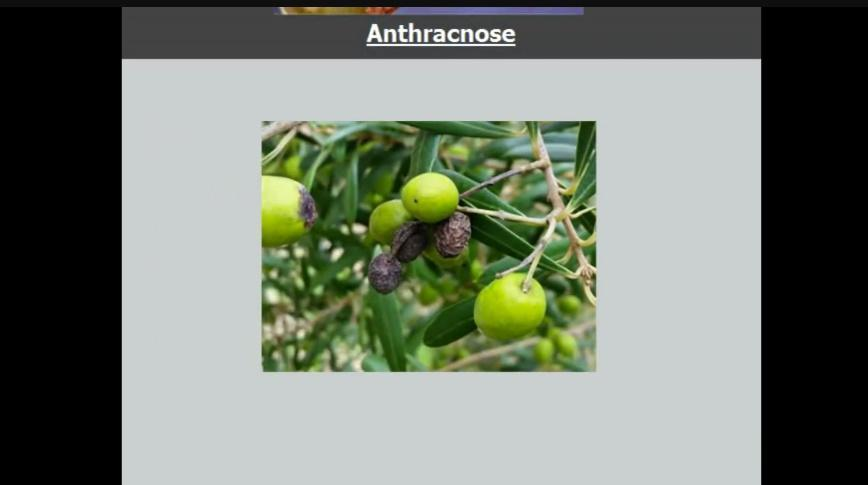Anthracnose: (438, 210, 479, 262), (286, 180, 324, 235), (386, 222, 435, 264), (362, 256, 408, 293)
